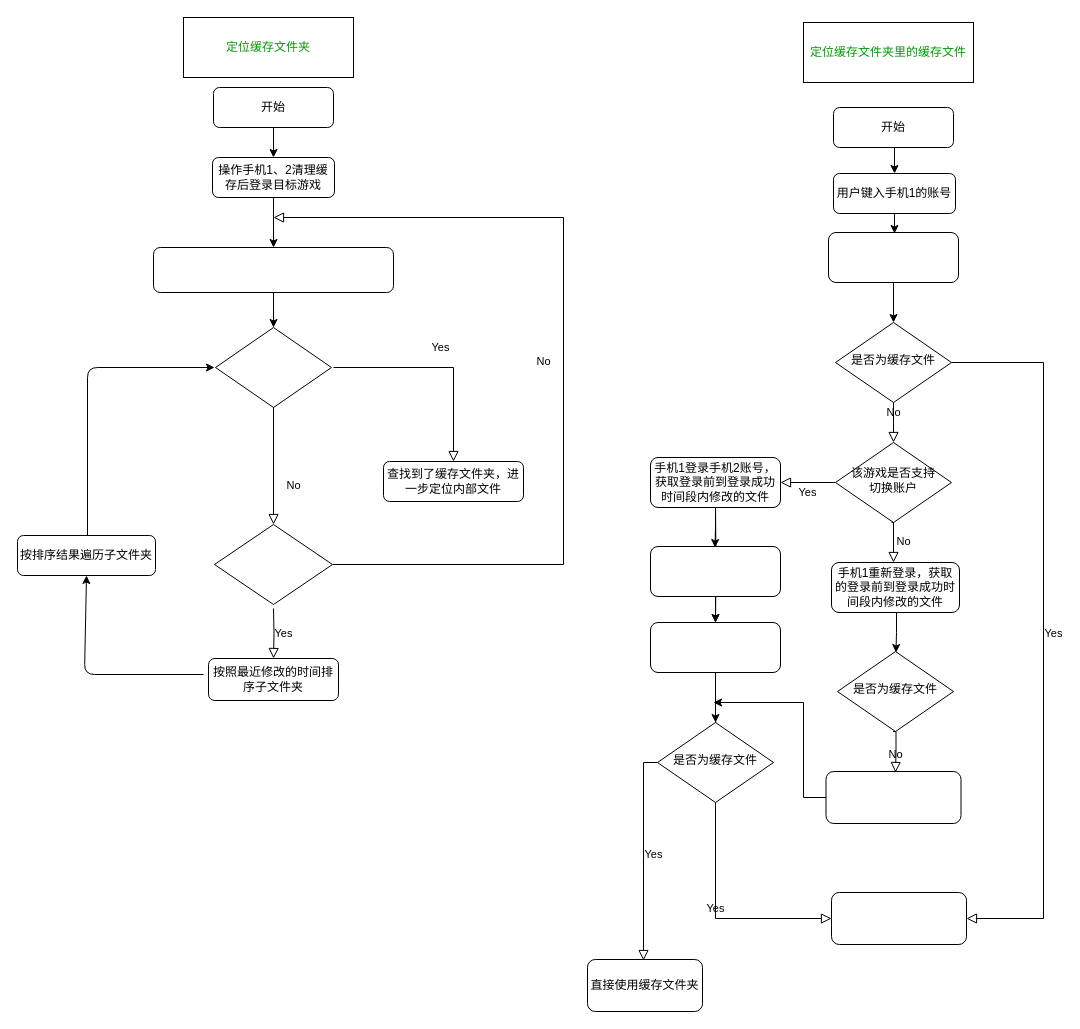
The diagram is 1080 pixels wide and 1029 high, and some of its shapes have lost their labels. The shapes that lost their labels are listed below. From the top down, each one's centre as x and y in pixels, then its label:
At pixel 273 269: "用户选择/data或/sdcard作为起始定位路径".
At pixel 893 257: "在文件夹里寻找内容包含账号的所有文件，以及以这些名开头的文件".
At pixel 273 367: "文件夹内的文件是否包含缓存文件".
At pixel 273 564: "是否包含子文件夹".
At pixel 715 571: "切换到另外一个账号，获取切换前到切换成功时间段内修改的文件".
At pixel 715 647: "获取两次都修改的文件".
At pixel 893 797: "手机1重新登录，获取的登录前到登录成功时间段内访问的文件".
At pixel 898 918: "查找到缓存文件".
